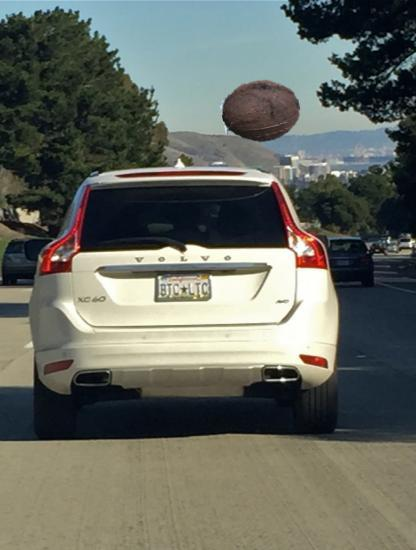Cocos: (222, 72, 300, 150)
